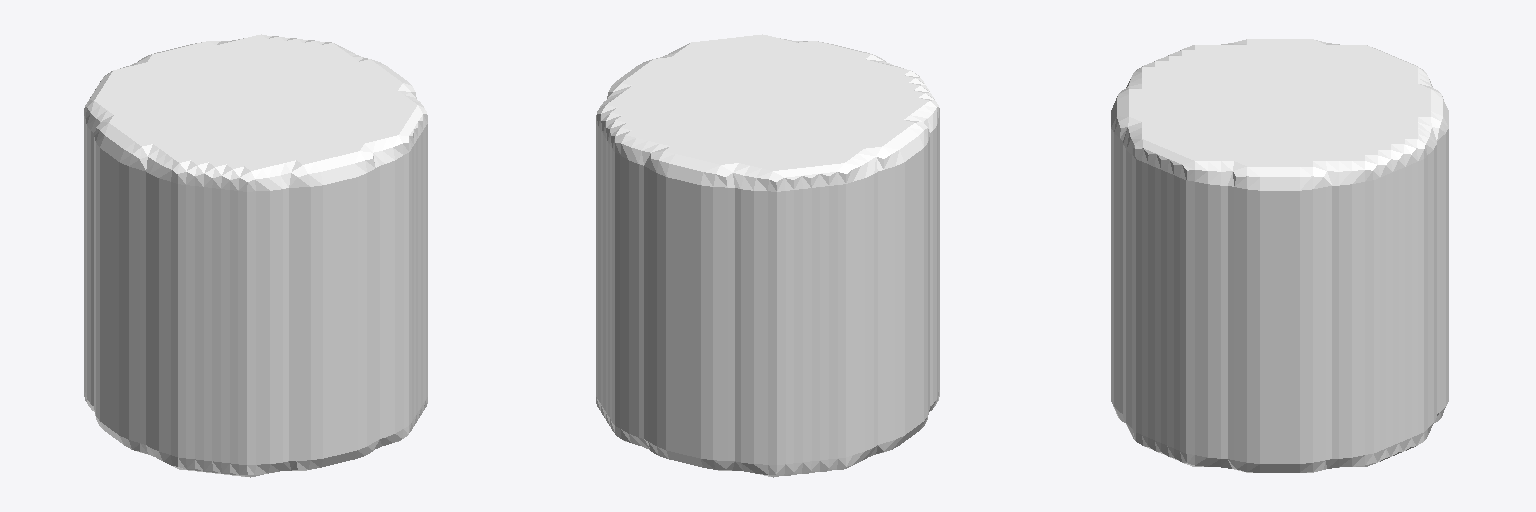
Rendered from PotionT2.obj.
The picture shows the model from 3 angles: view 1: azimuth 30°, elevation 25°; view 2: azimuth 150°, elevation 25°; view 3: azimuth 270°, elevation 25°; orthographic projection.
Parts seen in each view (by area): view 1: Potion1T; view 2: Potion1T; view 3: Potion1T.
Boxes of the visible parts, box(x1,y1,x2,y2) form: Potion1T: box(84, 34, 427, 477); Potion1T: box(596, 34, 939, 477); Potion1T: box(1111, 39, 1448, 472).
Bounding box in the file's own units: 5.5 × 5.5 × 5.5.